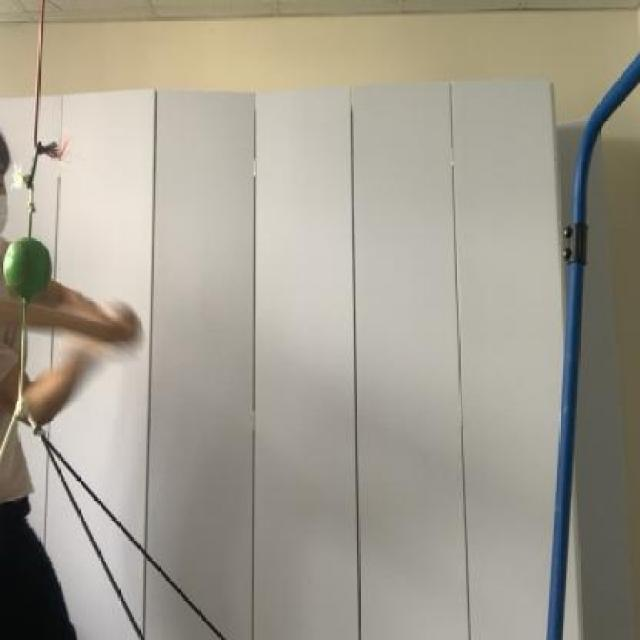baseball: (0, 226, 55, 304)
